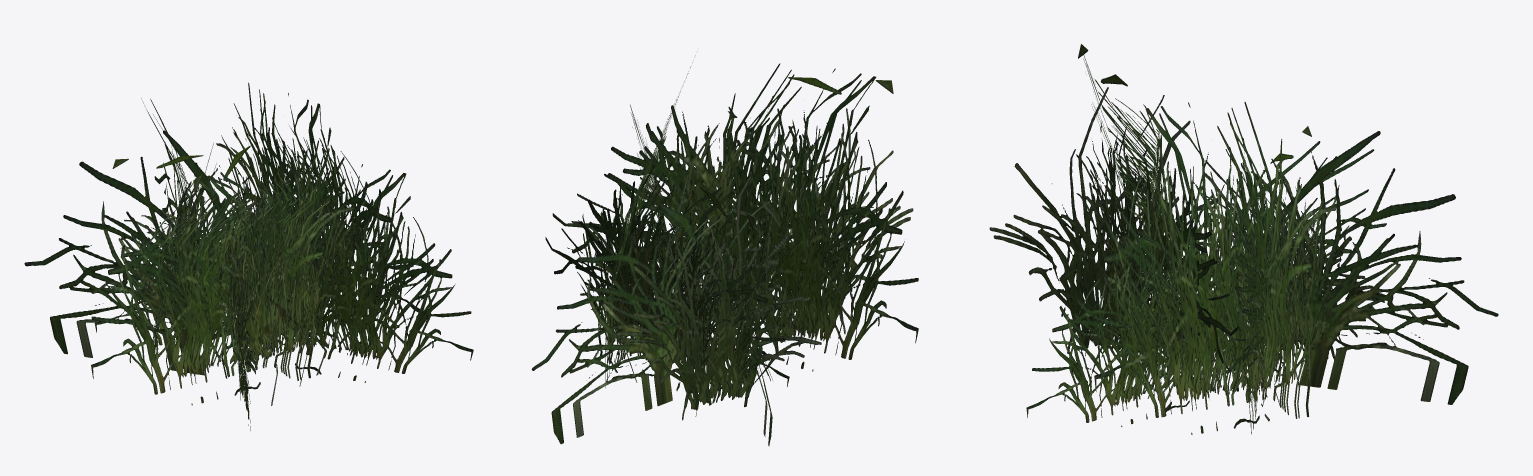
The model's file is forest_grass_001_a_LOD1.gltf.
The picture shows the model from 3 angles, left to right: view 1: azimuth 30°, elevation 25°; view 2: azimuth 150°, elevation 25°; view 3: azimuth 270°, elevation 25°; orthographic projection. The views are drawn at different scales.
Visible parts, largest first — view 1: forest_grass_001_a_LOD1; view 2: forest_grass_001_a_LOD1; view 3: forest_grass_001_a_LOD1.
Boxes of the visible parts, left/top/right/bottom form: forest_grass_001_a_LOD1: left=24, top=82, right=473, bottom=430; forest_grass_001_a_LOD1: left=531, top=55, right=918, bottom=446; forest_grass_001_a_LOD1: left=989, top=44, right=1498, bottom=434.
Bounding box in the file's own units: 1.1 × 0.8225 × 1.34.
Materials: 1 (1 with a texture image).
